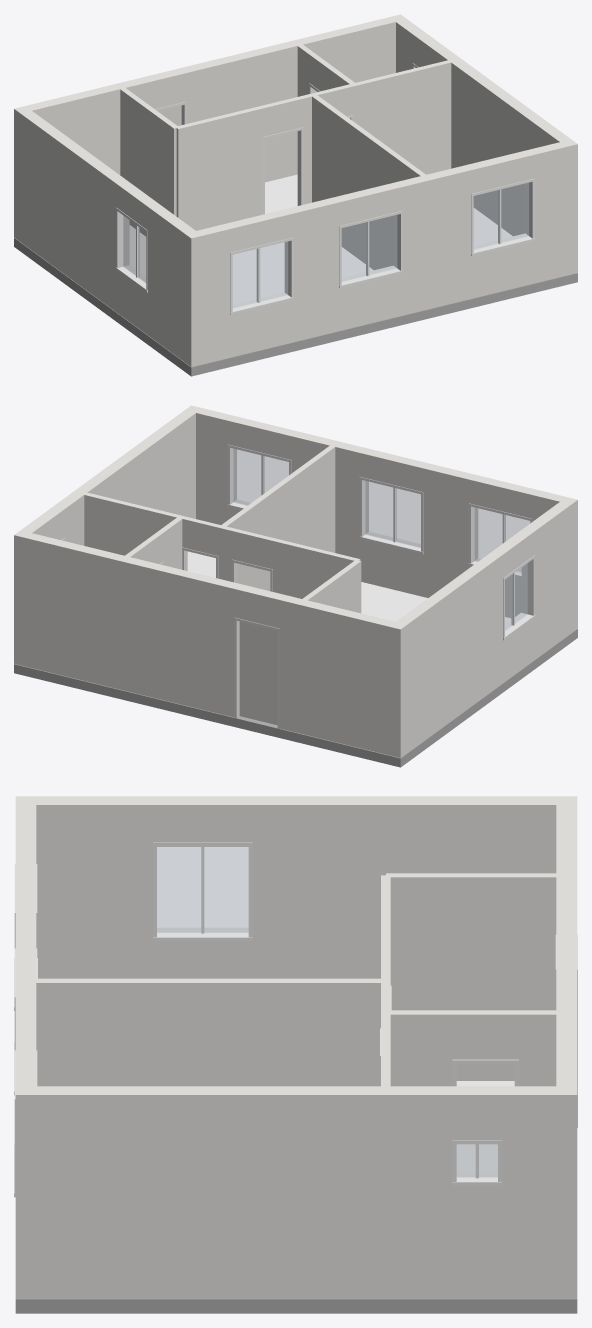
The model's file is apartment_scandi_shell.glb.
The picture shows the model from 3 angles, top to bottom: view 1: azimuth 30°, elevation 25°; view 2: azimuth 150°, elevation 25°; view 3: azimuth 270°, elevation 25°; orthographic projection. The views are drawn at different scales.
Visible parts, largest first — view 1: Ext_W.003, Ext_N.002, Int_living_hall, Ext_E, Ext_S.006, Int_living_bed, Int_bed_N.002, Ext_S, Ext_S.003, Ext_S.009, Slab, Ext_N (+34 smaller); view 2: Ext_N.002, Ext_N, Ext_W.003, Ext_E, Int_living_bed, Slab, Ext_S.003, Ext_W, Ext_S.006, Int_bed_N.002, EntranceDoor, Ext_S.009 (+29 smaller); view 3: Ext_E, Int_living_bed, Ext_W.003, Int_kitch_hall, Ext_W, Ext_E.003, Slab, Ext_N.002, Frame.025, Ext_E.001, Ext_S.009, Int_hall_bath (+19 smaller).
Boxes of the visible parts, x1,y1,x2,y2 form: Ext_W.003: [20, 111, 127, 311]; Ext_N.002: [180, 14, 406, 182]; Int_living_hall: [175, 106, 262, 230]; Ext_E: [428, 43, 570, 236]; Ext_S.006: [396, 165, 470, 315]; Int_living_bed: [312, 94, 425, 269]; Int_bed_N.002: [352, 60, 451, 174]; Ext_S: [184, 224, 229, 366]; Ext_S.003: [287, 197, 338, 341]; Ext_S.009: [529, 139, 577, 282]; Slab: [14, 237, 577, 376]; Ext_N: [14, 79, 140, 241]; Ext_N.002: [14, 530, 240, 717]; Ext_N: [280, 595, 407, 757]; Ext_W.003: [396, 552, 502, 752]; Ext_E: [54, 410, 195, 545]; Int_living_bed: [221, 445, 335, 590]; Slab: [14, 628, 577, 767]; Ext_S.003: [423, 463, 475, 597]; Ext_W: [523, 502, 571, 659]; Ext_S.006: [291, 431, 365, 558]; Int_bed_N.002: [84, 492, 184, 555]; EntranceDoor: [239, 621, 277, 725]; Ext_S.009: [185, 405, 233, 524]; Ext_E: [36, 1086, 452, 1298]; Int_living_bed: [36, 978, 385, 1086]; Ext_W.003: [252, 796, 556, 978]; Int_kitch_hall: [386, 873, 556, 1080]; Ext_W: [36, 796, 152, 978]; Ext_E.003: [502, 1086, 556, 1298]; Slab: [15, 1298, 577, 1313]; Ext_N.002: [556, 924, 577, 1298]; Frame.025: [157, 847, 248, 932]; Ext_E.001: [452, 1186, 502, 1298]; Ext_S.009: [15, 1061, 36, 1298]; Int_hall_bath: [386, 1010, 452, 1086].
Size of the model in its own units: 8.54 by 2.9 by 6.78.
